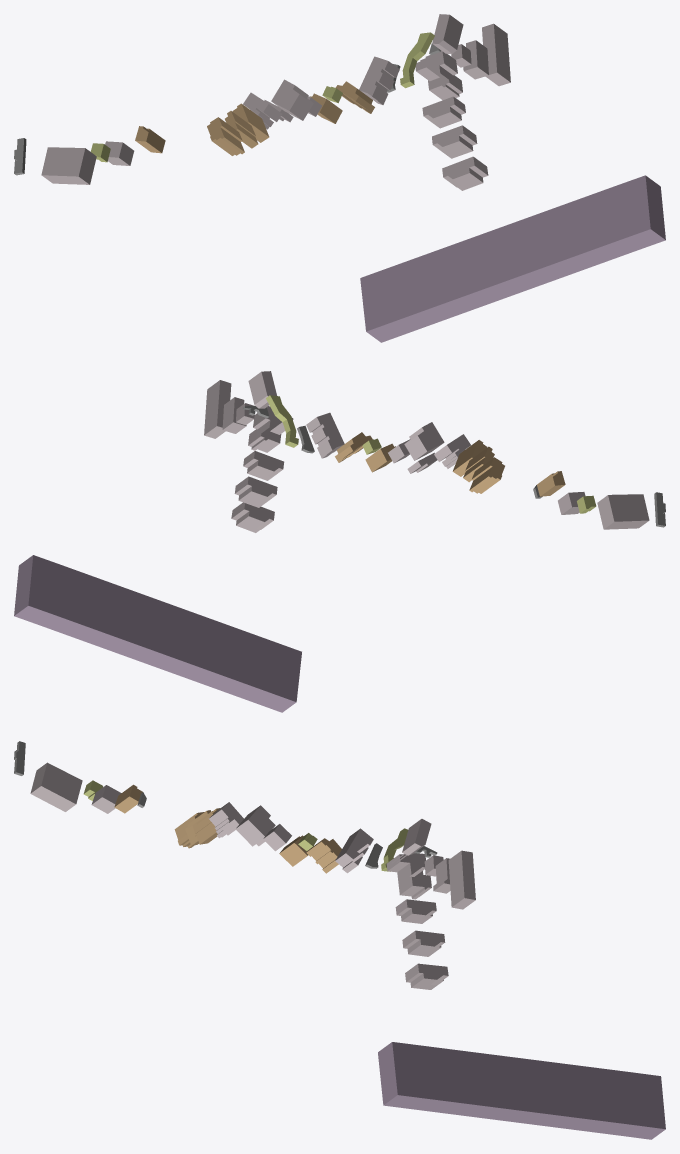
The picture shows the model from 3 angles, top to bottom: view 1: azimuth 30°, elevation 25°; view 2: azimuth 150°, elevation 25°; view 3: azimuth 330°, elevation 25°; orthographic projection. The views are drawn at different scales.
Visible parts, largest first — view 1: 0_3_0_1_1; view 2: 0_3_0_1_1; view 3: 0_3_0_1_1.
Part boxes in pixels (bbox=[...]): 0_3_0_1_1: bbox=[14, 14, 665, 342]; 0_3_0_1_1: bbox=[14, 371, 665, 712]; 0_3_0_1_1: bbox=[14, 741, 665, 1139].
Bounding box in the file's own units: 501 × 233 × 68.6.
